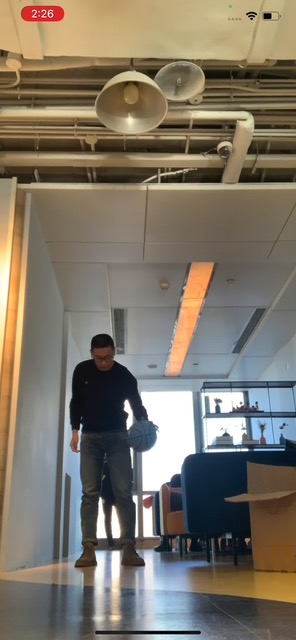ball: (126, 419, 158, 451)
